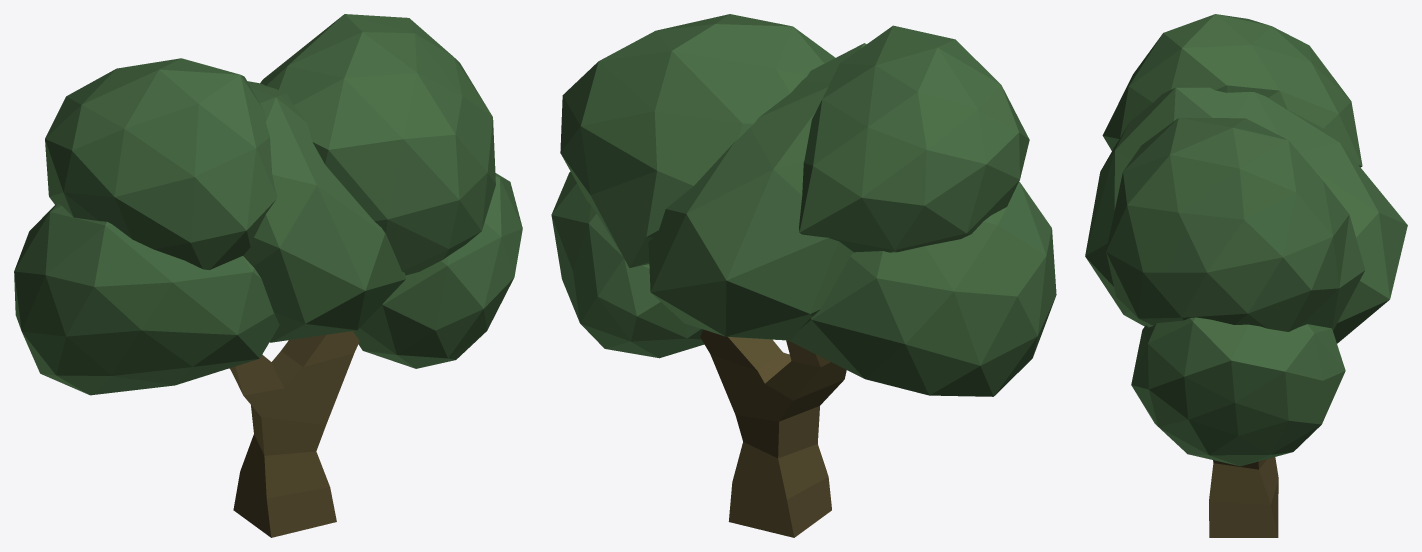
File: trees2.fbx
The picture shows the model from 3 angles, left to right: view 1: azimuth 30°, elevation 25°; view 2: azimuth 150°, elevation 25°; view 3: azimuth 270°, elevation 25°; orthographic projection. The views are drawn at different scales.
Visible parts, largest first — view 1: OakTree1; view 2: OakTree1; view 3: OakTree1.
Part boxes in pixels (x1=…): OakTree1: x1=14, y1=14, x2=522, y2=537; OakTree1: x1=551, y1=14, x2=1056, y2=537; OakTree1: x1=1085, y1=14, x2=1407, y2=537.
Bounding box in the file's own units: 976 × 959 × 628.
